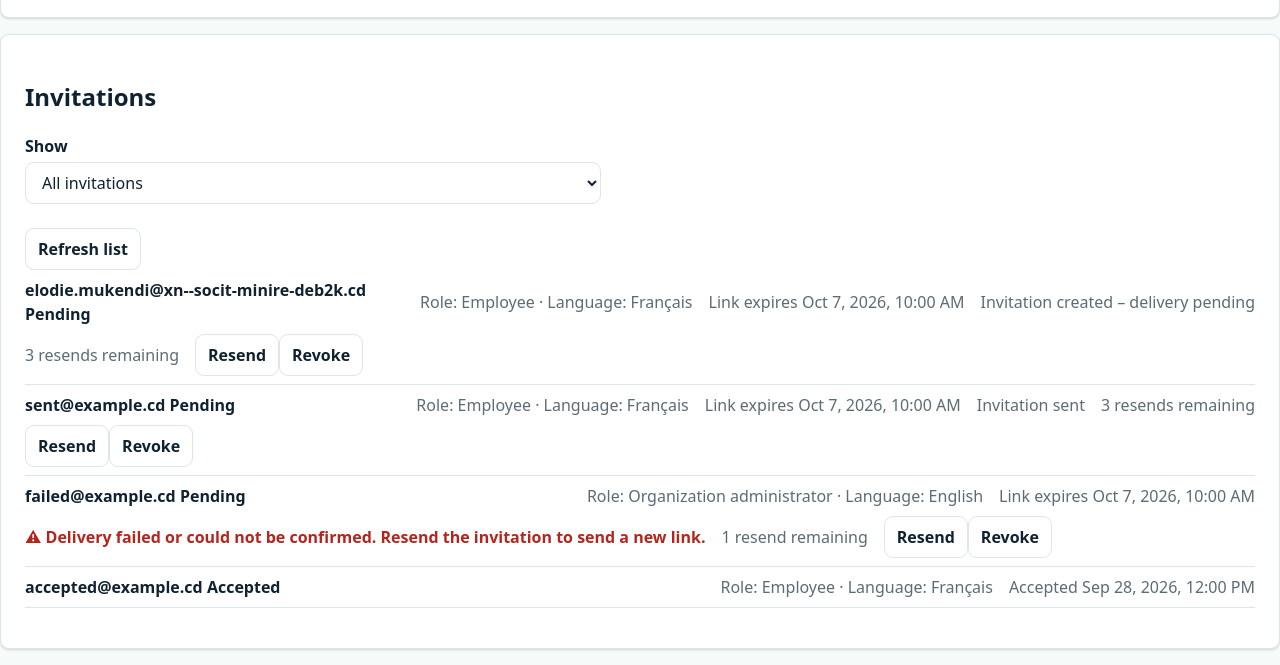
Scenario: users and invitations (en) › revokes in two steps: confirmation takes focus, cancel restores it, confirm revokes
(page scrolled)
Expected: the list with test id "invitation-list" is shown, x1=25 y1=270 x2=1255 y2=608
Click the button "Revoke" below "elodie.mukendi@xn--socit-minire-deb2k.cd".
click(321, 355)  # box x1=279 y1=334 x2=363 y2=376
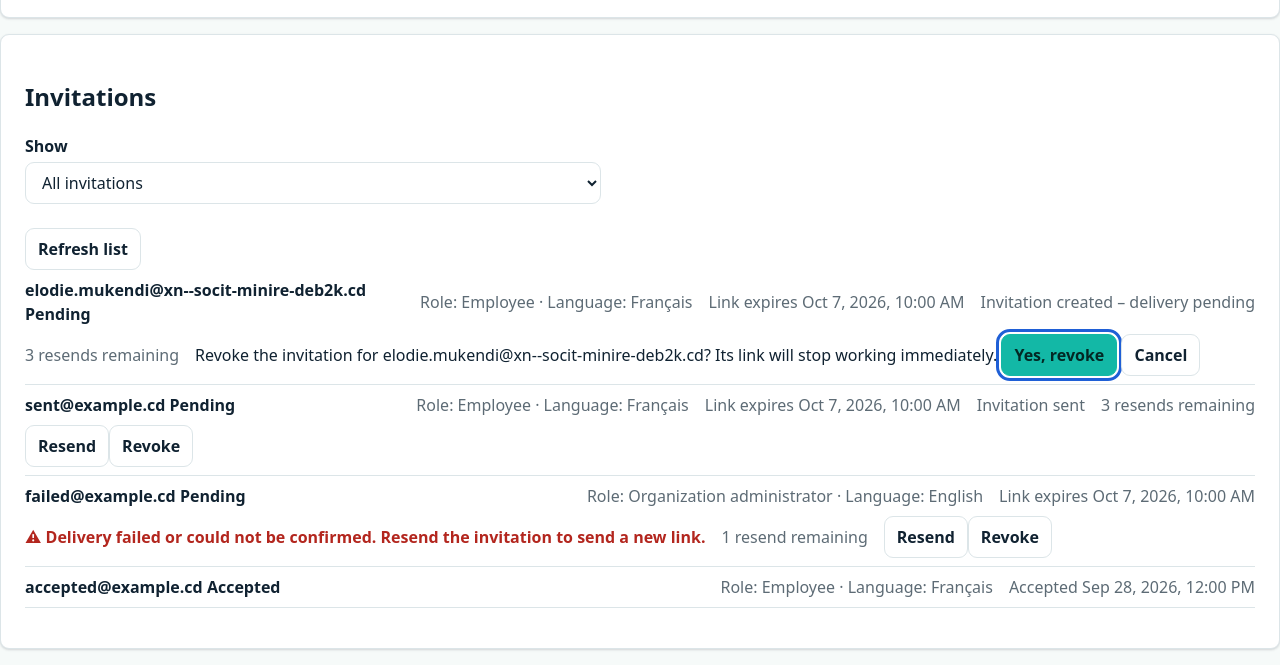
Click the button "Cancel".
click(1161, 355)  # box x1=1121 y1=334 x2=1200 y2=376
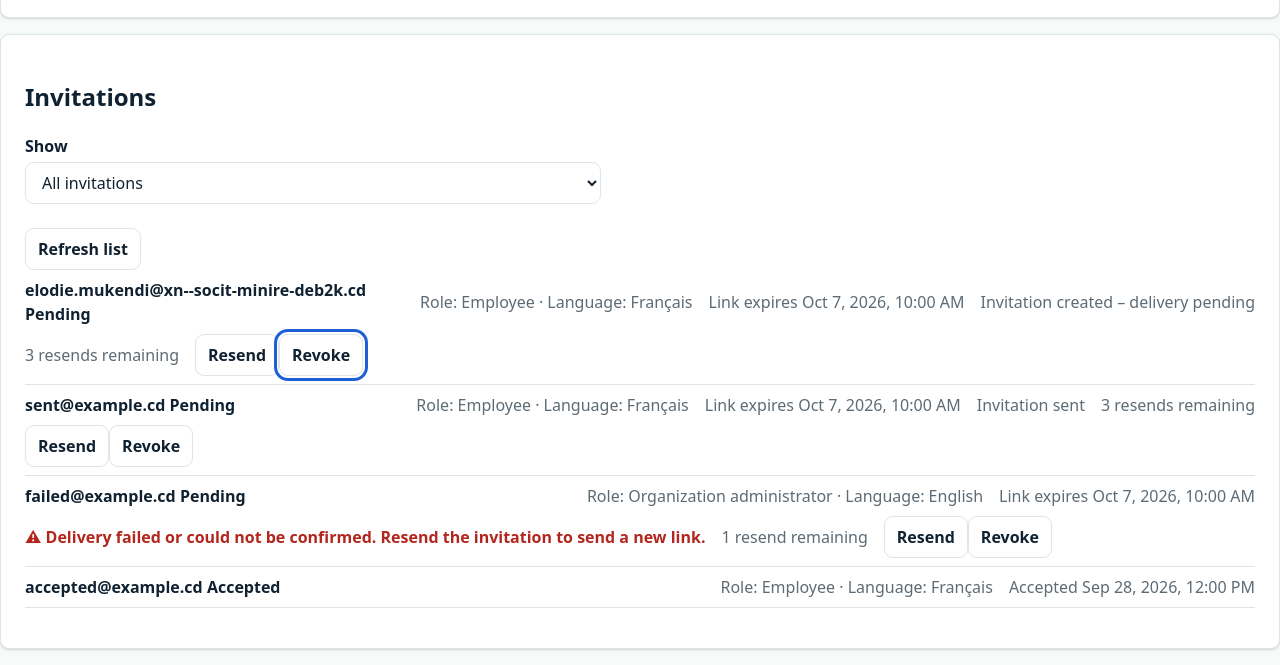
Click the button "Revoke" below "elodie.mukendi@xn--socit-minire-deb2k.cd".
click(321, 355)  # box x1=279 y1=334 x2=363 y2=376
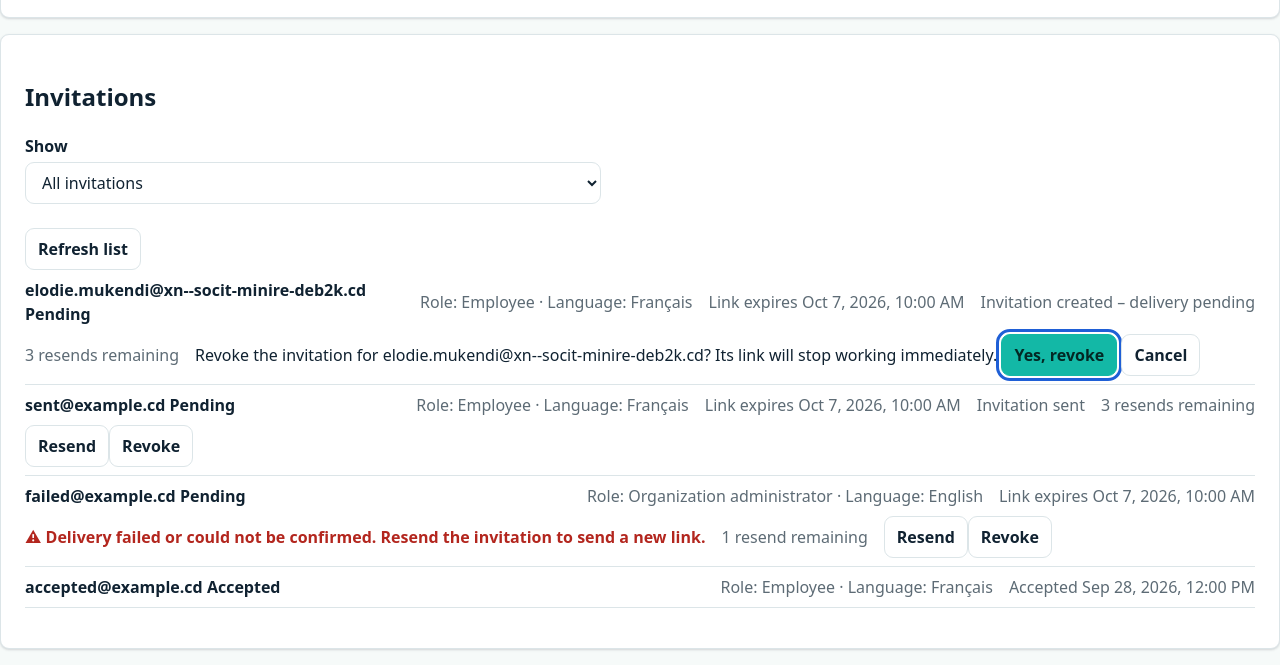
Click the button "Yes, revoke".
click(1059, 355)  # box x1=1002 y1=334 x2=1117 y2=376
(page scrolled)
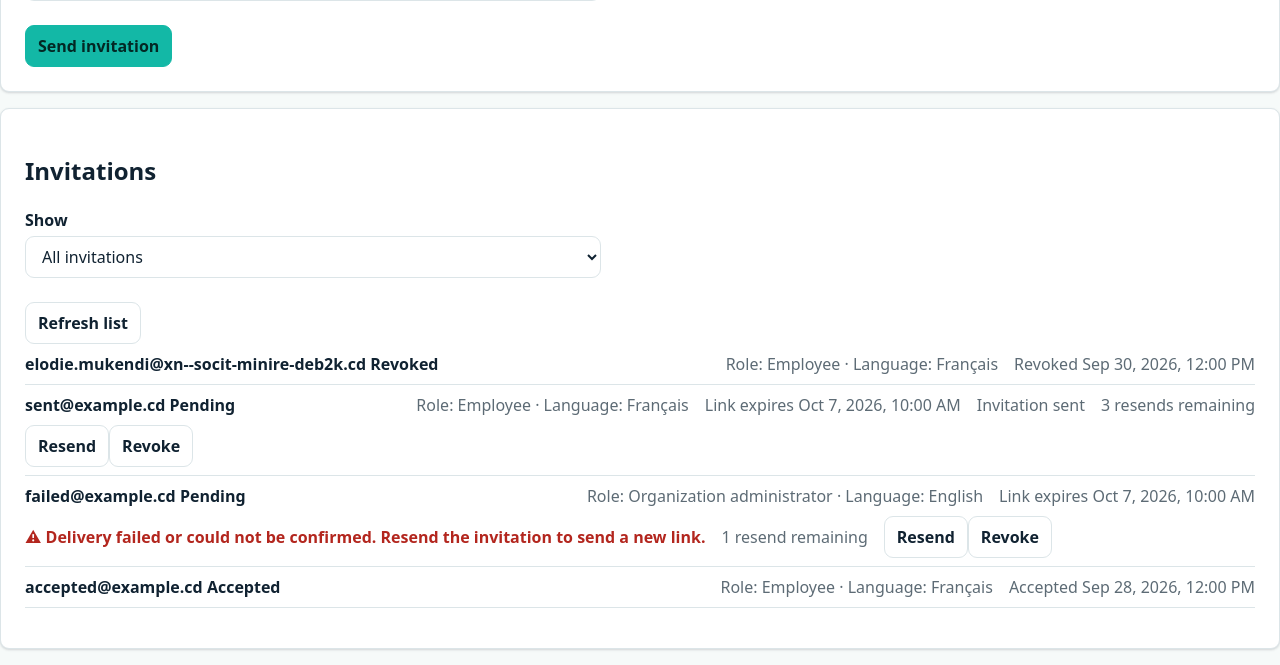
Result: the text with test id "invitation-status" reads "Revoked" at x1=370 y1=353 x2=438 y2=375
Result: the text "Invitation created – delivery pending" is gone
